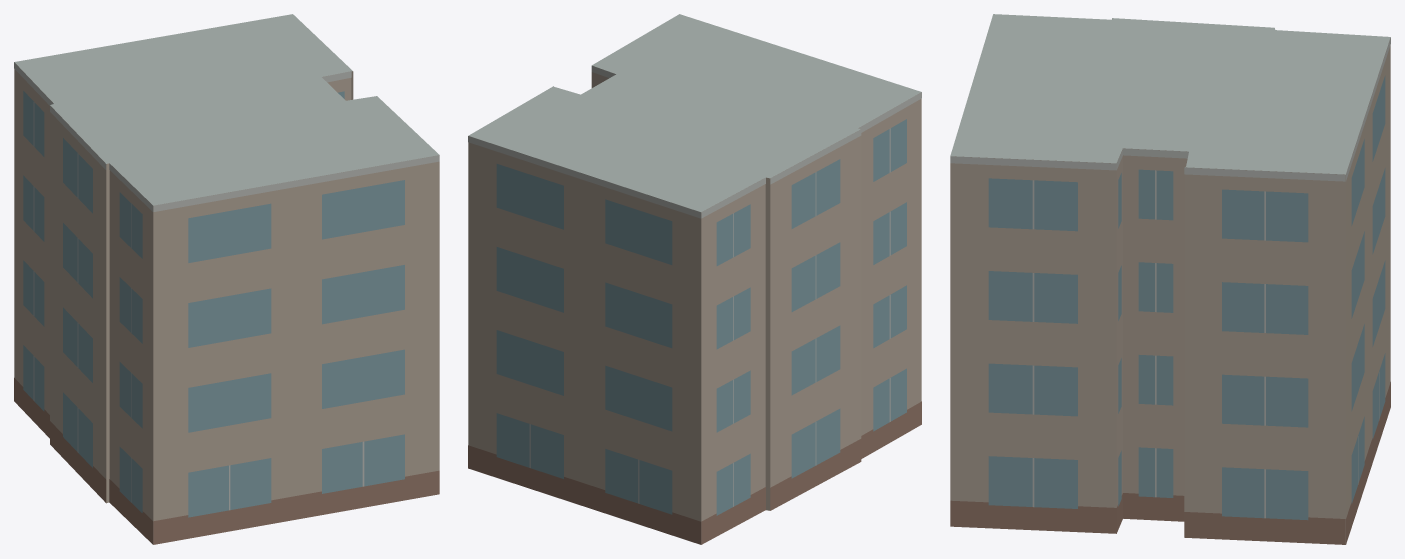
Rendered from survey-upis-32632302.glb.
3 views of the same model, side by side, from view 1: azimuth 30°, elevation 25°; view 2: azimuth 150°, elevation 25°; view 3: azimuth 270°, elevation 25° (orthographic). The views are drawn at different scales.
Visible parts, largest first — view 1: survey-upis-32632302.tmp; view 2: survey-upis-32632302.tmp; view 3: survey-upis-32632302.tmp.
Boxes of the visible parts, bbox=[...] form: survey-upis-32632302.tmp: bbox=[14, 14, 439, 544]; survey-upis-32632302.tmp: bbox=[468, 14, 921, 544]; survey-upis-32632302.tmp: bbox=[950, 14, 1390, 544].
Size of the model in its own units: 11.81 by 12.7 by 13.7.
